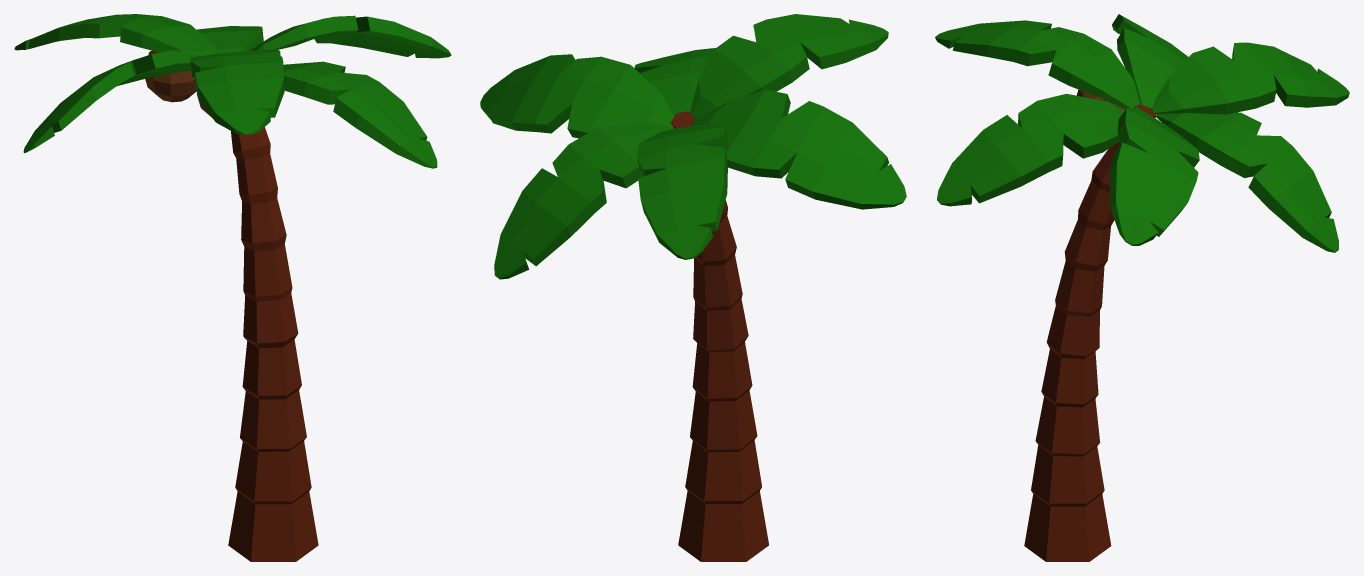
File: palmera.obj
3 views of the same model, side by side, from view 1: azimuth 30°, elevation 25°; view 2: azimuth 150°, elevation 25°; view 3: azimuth 270°, elevation 25° (orthographic). The views are drawn at different scales.
Parts seen in each view (by area): view 1: MeshespalmTreecube1, MeshespalmTreecylinder0011, MeshespalmTreesphere0011; view 2: MeshespalmTreecube1, MeshespalmTreecylinder0011; view 3: MeshespalmTreecube1, MeshespalmTreecylinder0011.
Part boxes in pixels (box(x1,y1,x2,y2)): MeshespalmTreecube1: box(14, 14, 451, 168); MeshespalmTreecylinder0011: box(228, 127, 318, 561); MeshespalmTreesphere0011: box(145, 22, 196, 102); MeshespalmTreecube1: box(480, 14, 906, 279); MeshespalmTreecylinder0011: box(670, 111, 768, 561); MeshespalmTreecube1: box(935, 14, 1349, 252); MeshespalmTreecylinder0011: box(1024, 104, 1156, 561).
Bounding box in the file's own units: 43.57 × 50 × 38.49.
